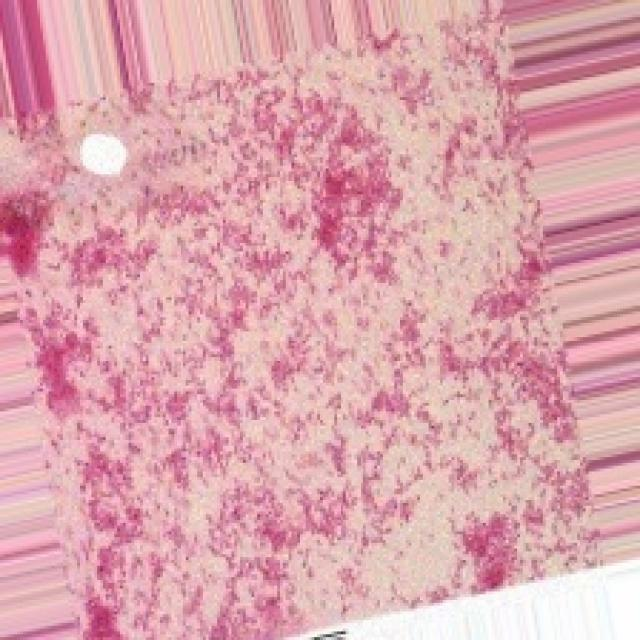Rod_bacteria: (0, 0, 606, 637)
